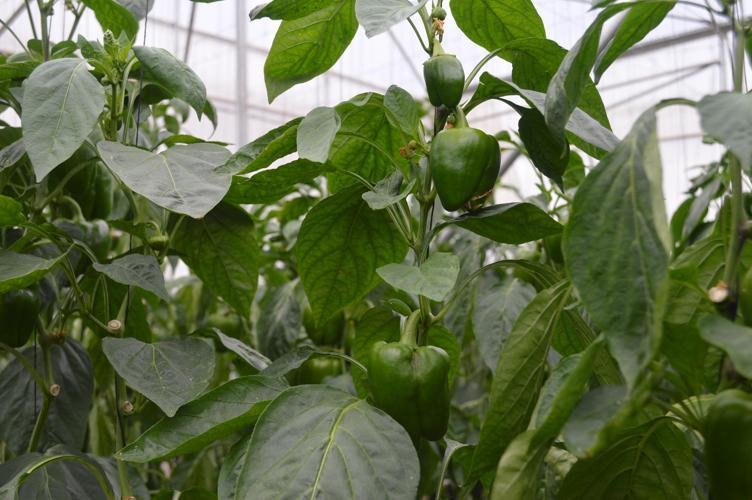BellPepper: (365, 327, 456, 452), (422, 123, 509, 221), (421, 53, 463, 117)
